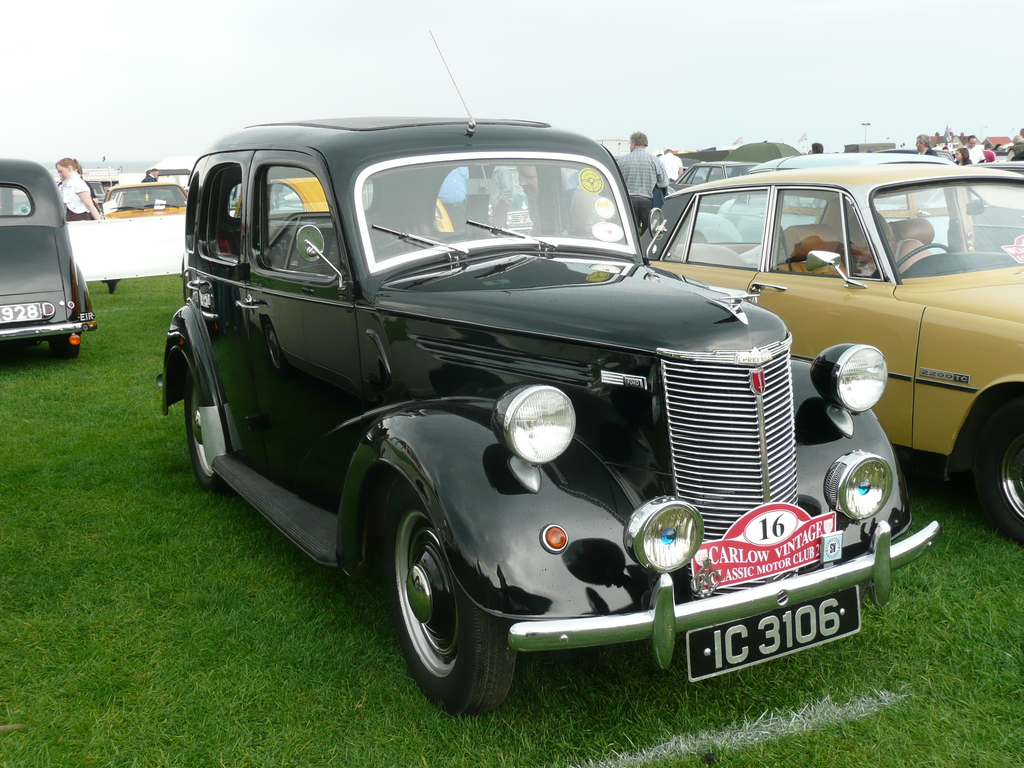person: (888, 215, 936, 250)
